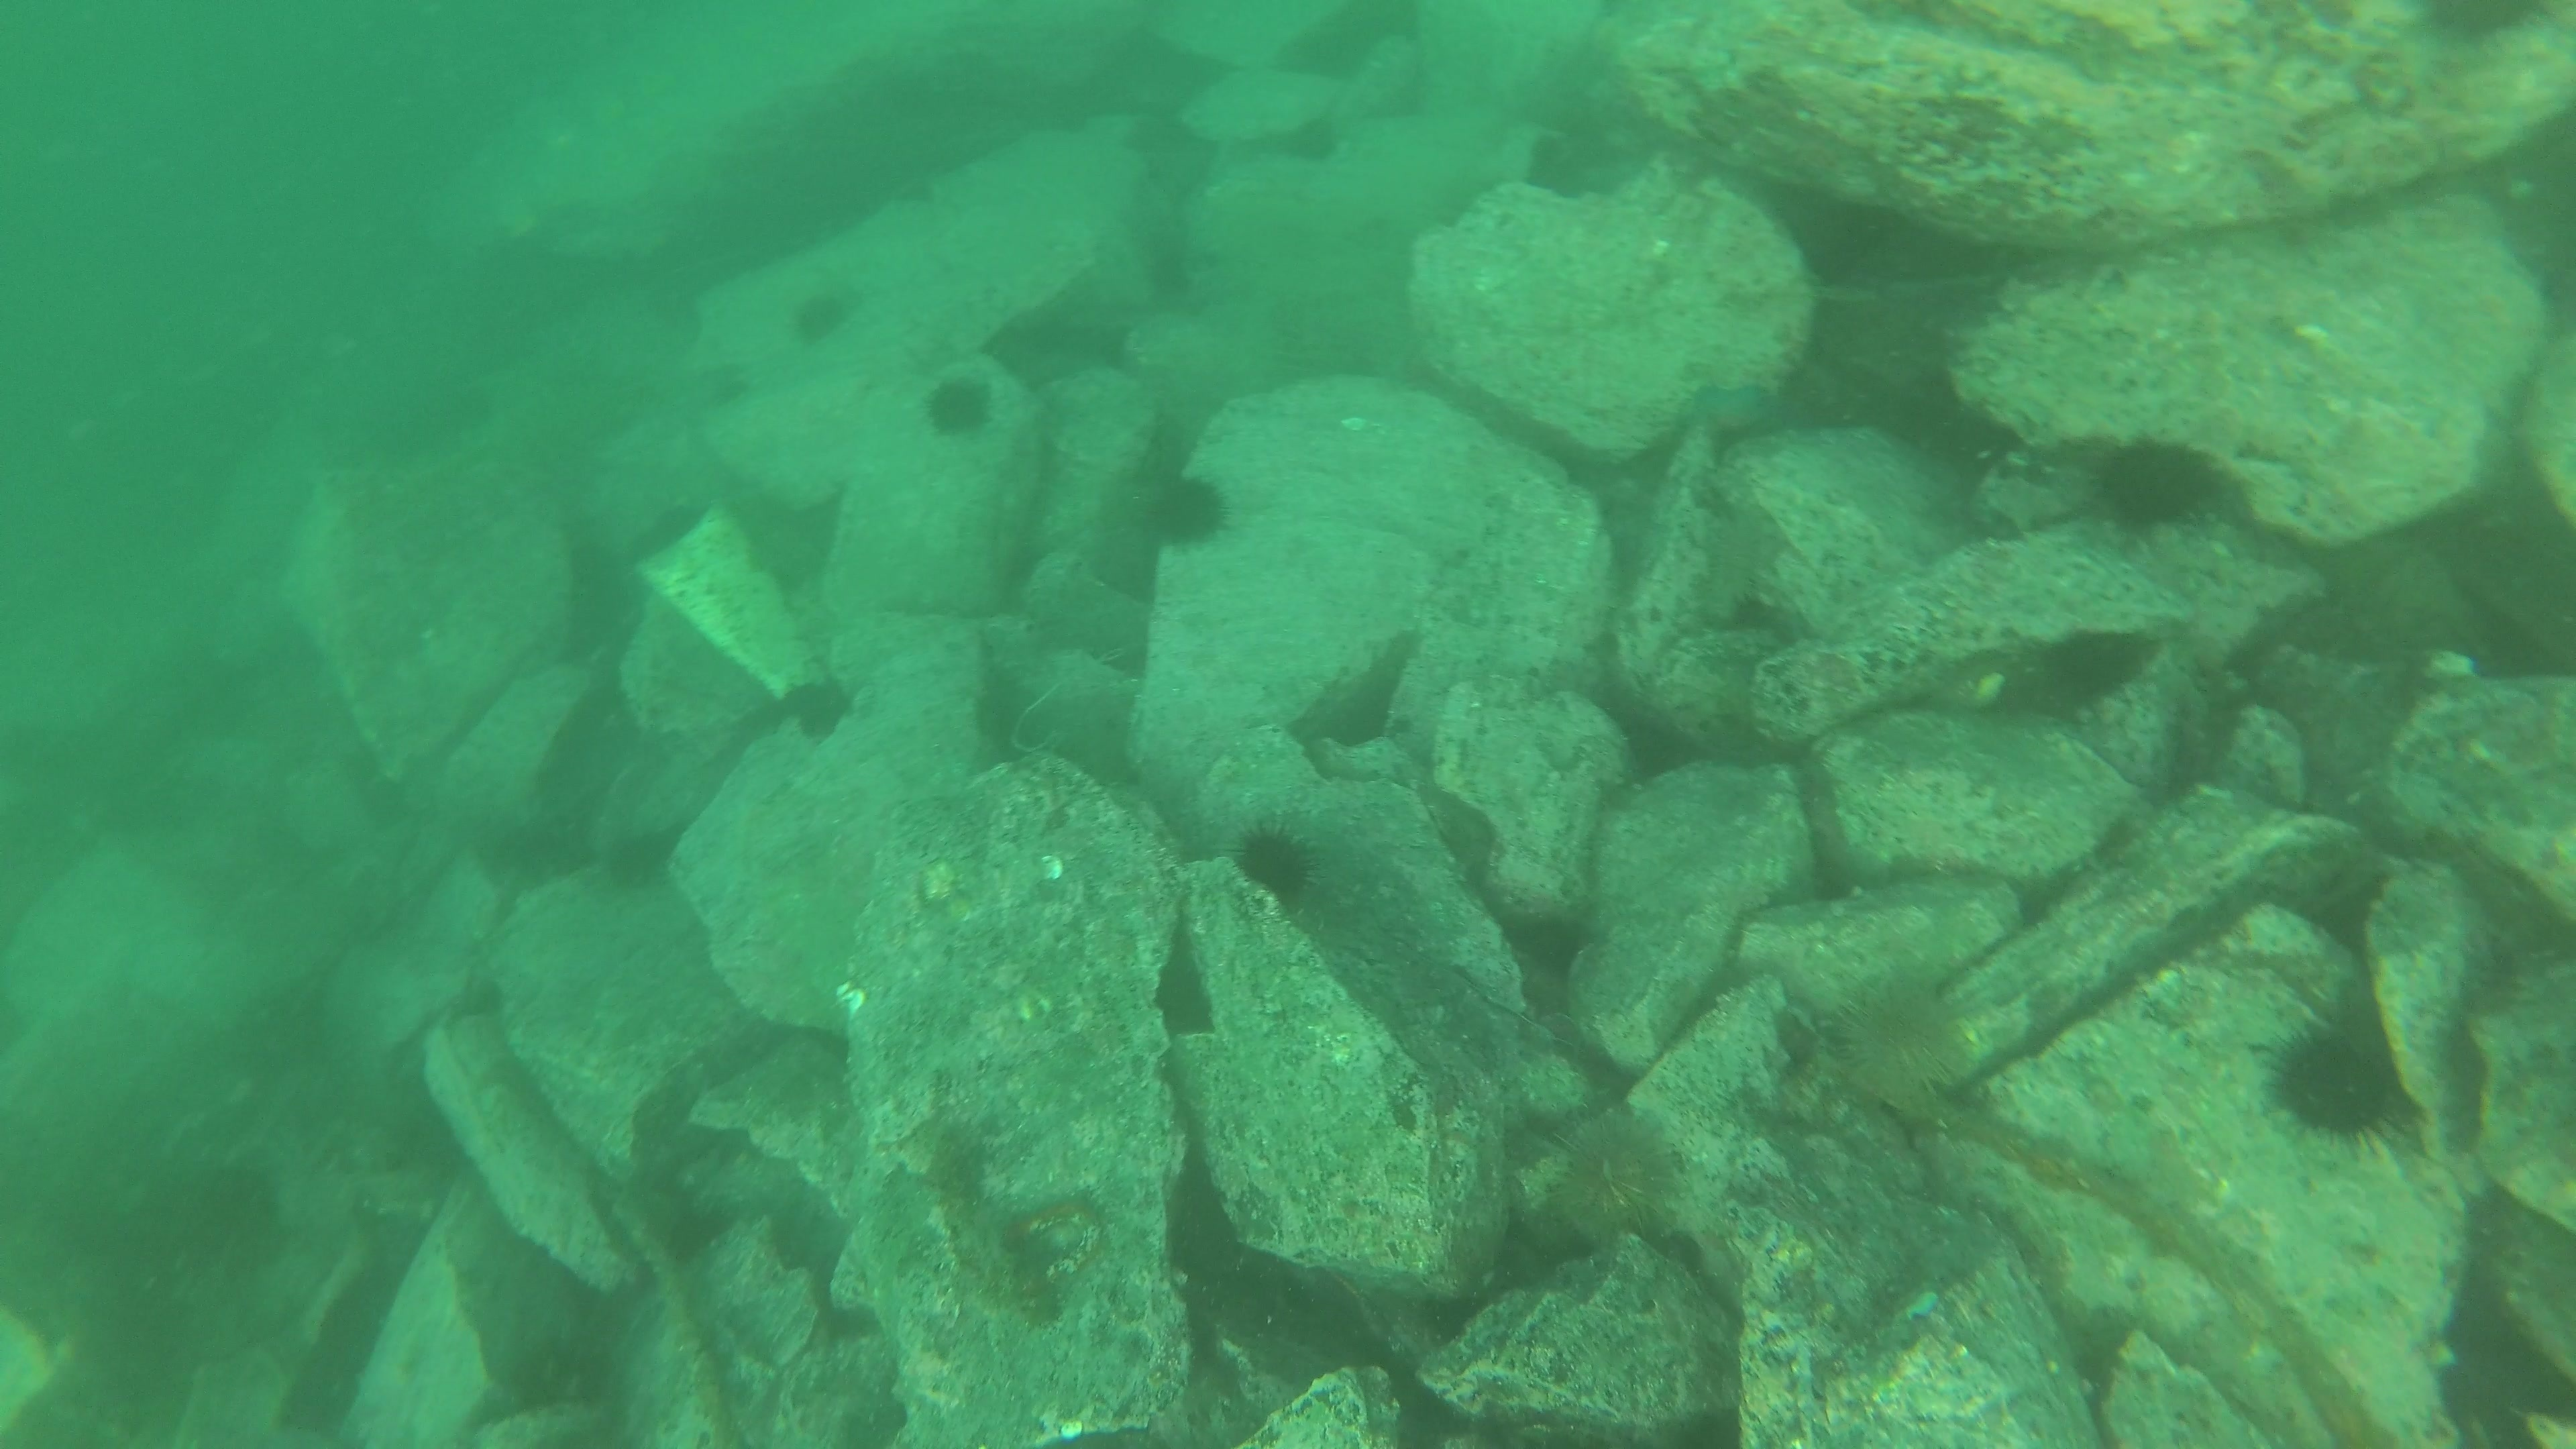echinus: (1826, 971, 1983, 1116), (1537, 1108, 1688, 1249), (2263, 1014, 2410, 1146), (2081, 430, 2231, 541), (1226, 816, 1325, 913), (1136, 467, 1235, 556), (775, 667, 860, 748), (918, 366, 1000, 444), (784, 278, 860, 349)
